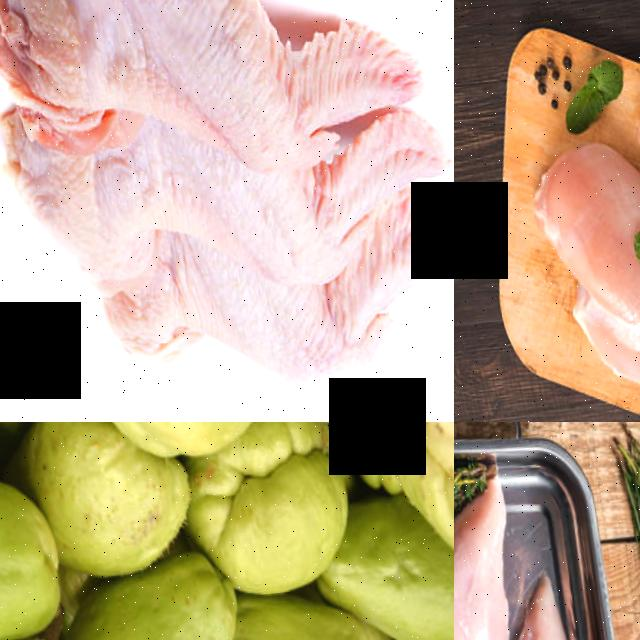chayote: (187, 429, 356, 592), (0, 461, 68, 640), (62, 422, 288, 461), (75, 588, 218, 640)
chicken breast: (525, 143, 640, 361), (454, 475, 498, 640)
chicken wing: (15, 105, 451, 310), (0, 0, 423, 175), (73, 222, 454, 413)
